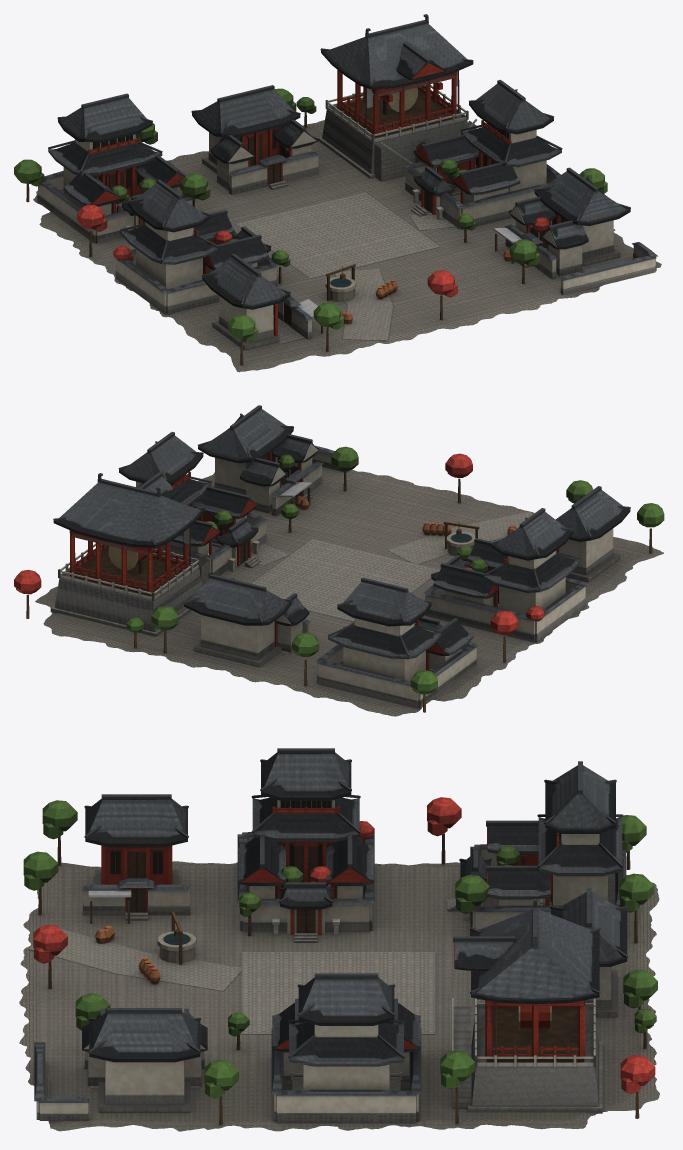
Rendered from kingdoms-town-small-b-sinic.glb.
3 renders of one model, top to bottom at view 1: azimuth 30°, elevation 25°; view 2: azimuth 150°, elevation 25°; view 3: azimuth 270°, elevation 25°, orthographic. The views are drawn at different scales.
Parts seen in each view (by area): view 1: LOD0; view 2: LOD0; view 3: LOD0.
Part boxes in pixels (x1,y1,x2,y2): LOD0: [14, 14, 661, 372]; LOD0: [14, 405, 664, 716]; LOD0: [19, 748, 659, 1131].
Size of what is drawn, in the model's own units: 4.04 by 1.13 by 4.06.
Materials: 3 (3 with a texture image).
